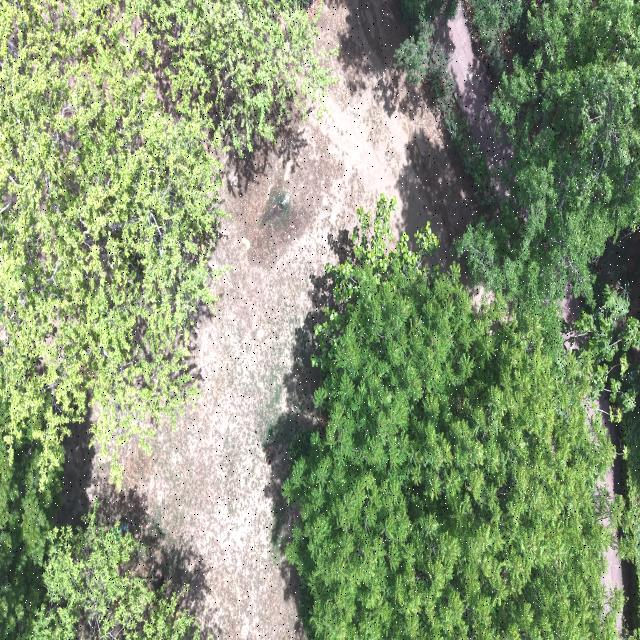DRY_AREA: (65, 0, 477, 639), (440, 2, 512, 168), (441, 5, 512, 167), (601, 546, 623, 591)
VEGETATION_TREE: (284, 0, 639, 639), (0, 0, 334, 639), (0, 0, 334, 485), (284, 197, 621, 639), (458, 0, 639, 563), (458, 0, 639, 351), (459, 1, 639, 335), (0, 424, 200, 639), (571, 283, 639, 635), (21, 512, 200, 639), (396, 0, 498, 209), (396, 0, 496, 207), (0, 423, 59, 639), (571, 285, 639, 421), (462, 0, 527, 72), (619, 407, 639, 636), (469, 0, 525, 71), (401, 0, 457, 30)
